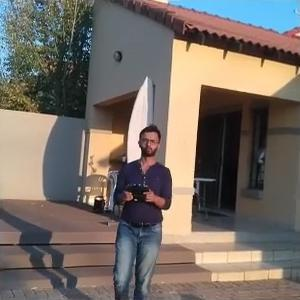follow: (108, 120, 177, 298)
